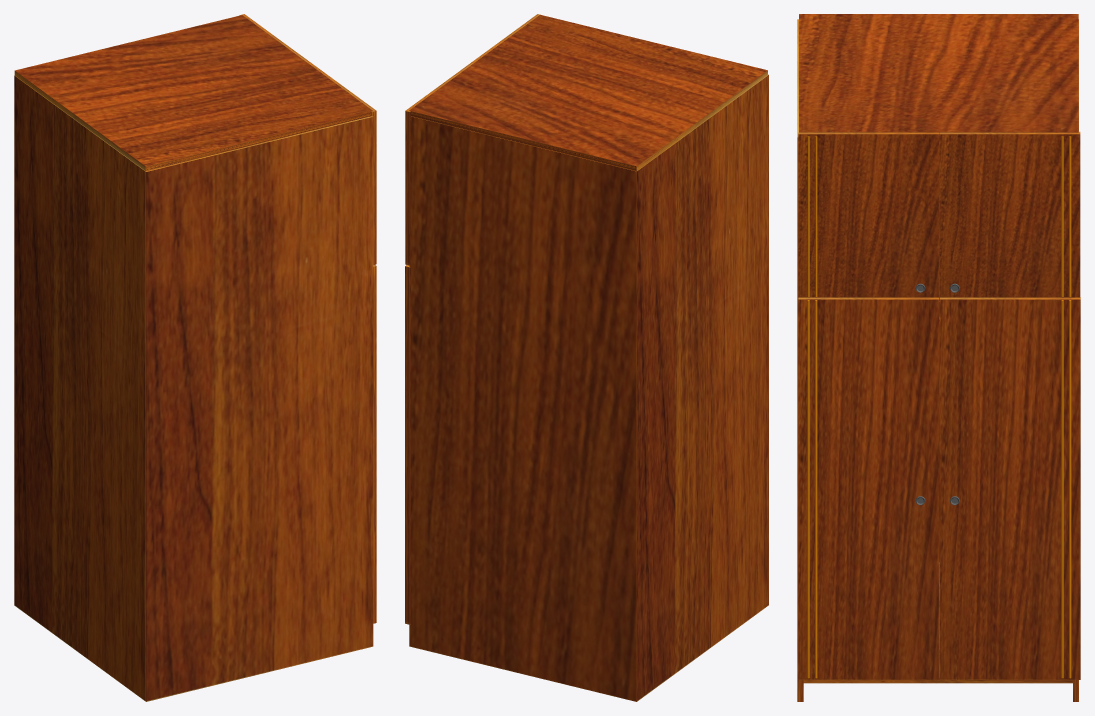
File: shkaf.fbx
The picture shows the model from 3 angles, left to right: view 1: azimuth 30°, elevation 25°; view 2: azimuth 150°, elevation 25°; view 3: azimuth 270°, elevation 25°; orthographic projection. The views are drawn at different scales.
Parts seen in each view (by area): view 1: Cube, Cube.002, Cube.005, Cube.007, Cube.009; view 2: Cube.001, Cube.002, Cube.005, Cube.008, Cube.010; view 3: Cube.008, Cube.007, Cube.005, Cube.010, Cube.009, Cylinder.006, Cube, Cube.003.
Part boxes in pixels (x1,y1,x2,y2): Cube: (144, 116, 373, 701); Cube.002: (14, 75, 145, 701); Cube.005: (14, 15, 372, 171); Cube.007: (373, 265, 376, 623); Cube.009: (308, 62, 376, 264); Cube.001: (409, 116, 637, 701); Cube.002: (637, 75, 768, 701); Cube.005: (409, 14, 767, 171); Cube.008: (405, 265, 410, 624); Cube.010: (405, 62, 473, 265); Cube.008: (939, 297, 1080, 679); Cube.007: (798, 297, 938, 679); Cube.005: (799, 14, 1078, 137); Cube.010: (939, 131, 1080, 297); Cube.009: (798, 131, 938, 297); Cylinder.006: (807, 136, 1071, 678); Cube: (797, 19, 803, 701); Cube.003: (803, 562, 1072, 683).
Bounding box in the file's own units: 419 × 905 × 407.
